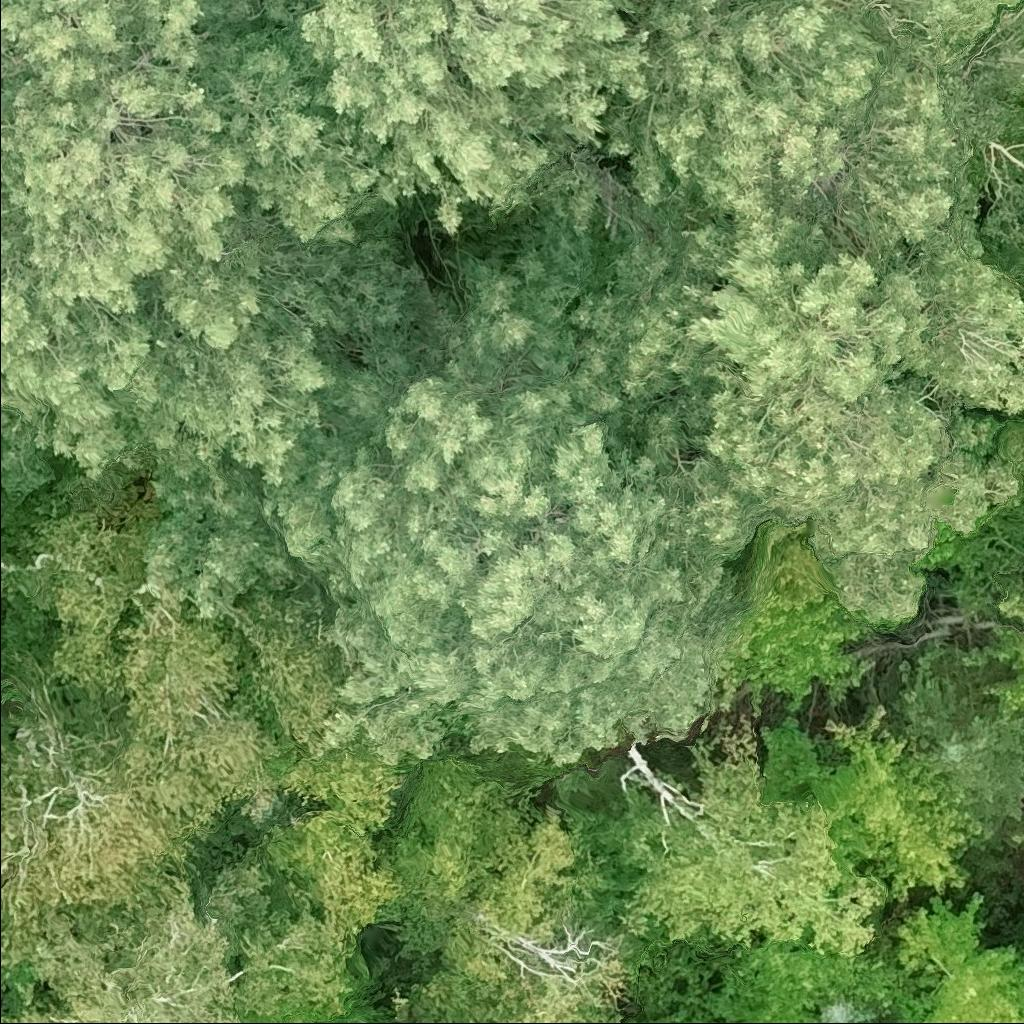crown: (261, 230, 739, 768), (0, 0, 441, 484), (569, 181, 1023, 628), (7, 507, 344, 843), (602, 0, 1023, 268), (291, 0, 653, 238), (599, 718, 888, 957), (0, 645, 193, 989), (376, 756, 615, 999), (0, 871, 241, 1023), (816, 694, 984, 903), (197, 859, 359, 1019), (895, 641, 1023, 837), (142, 458, 287, 627), (243, 807, 415, 937), (701, 933, 919, 1023), (267, 740, 410, 833), (404, 972, 620, 1023), (896, 941, 1023, 1023), (893, 888, 985, 977), (977, 585, 1023, 716), (815, 996, 898, 1023), (1019, 915, 1023, 946), (1015, 829, 1023, 843)
